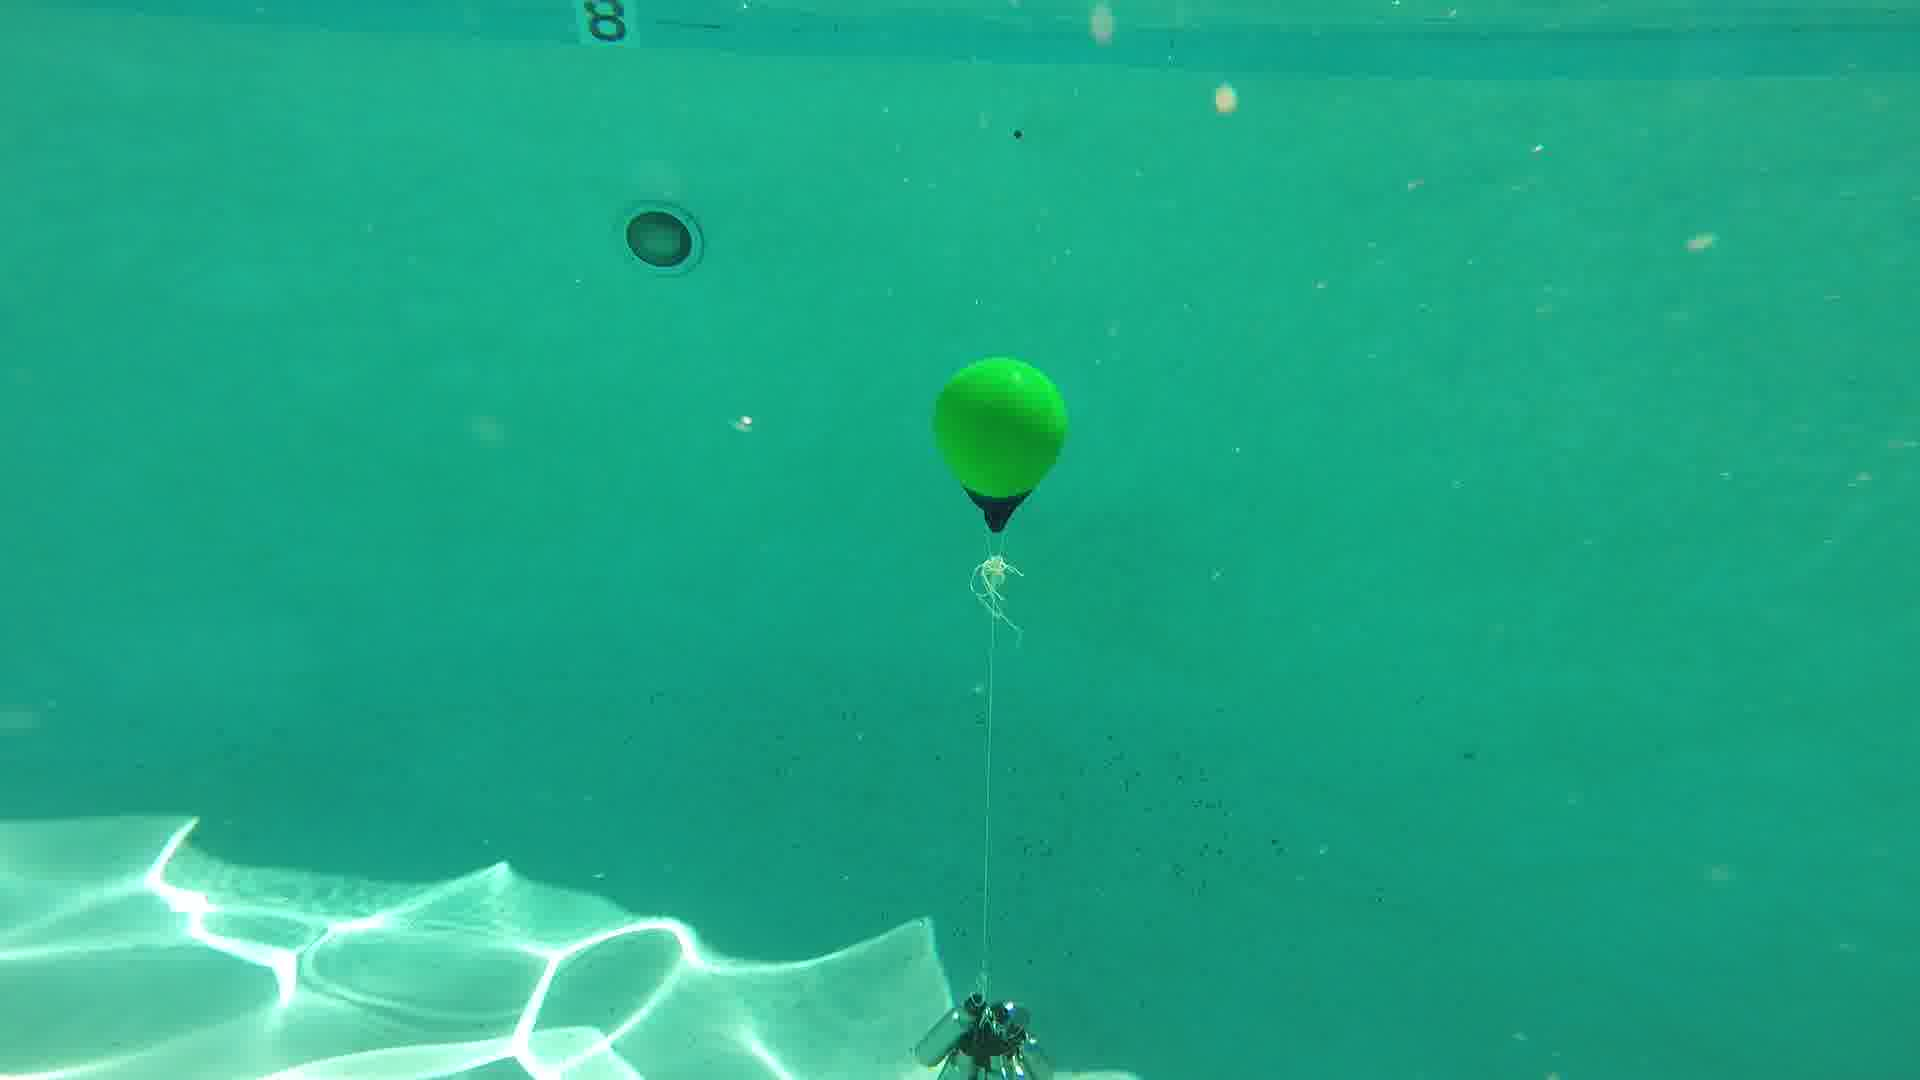yellow_buoy: (932, 356, 1068, 537)
